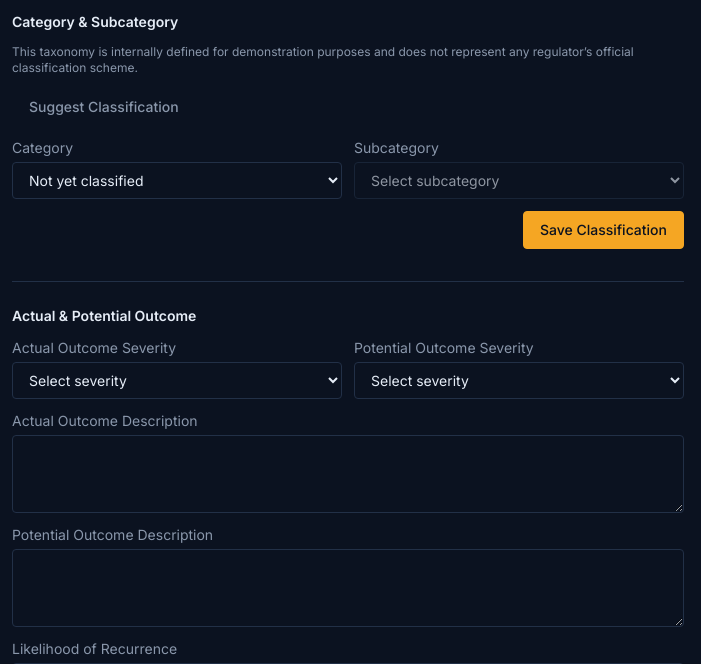
Test case: ClassificationPanel — Suggested Classification (rule-based, not AI) › shows a manual-classification prompt rather than a low-confidence guess when nothing matches
Step 1. Click the button "Suggest Classification" → {"x": 104, "y": 107}, box [12, 88, 196, 126]
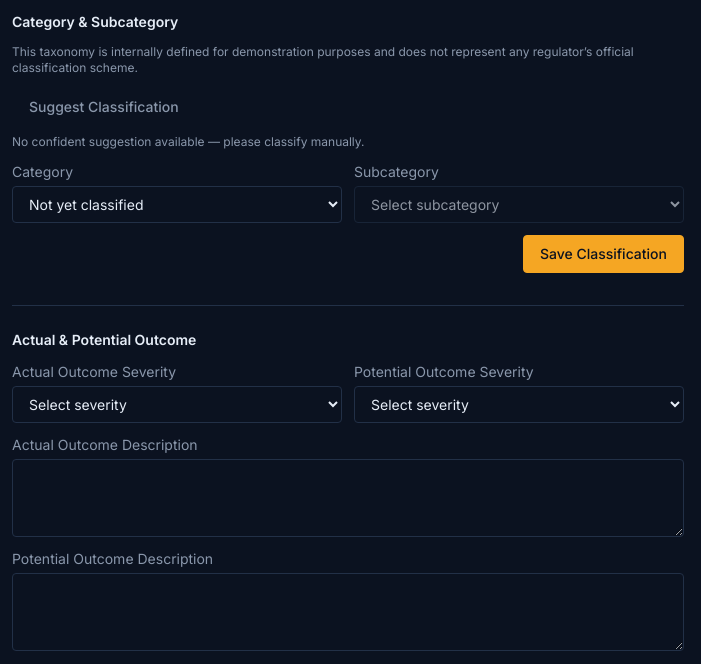
Expected: the text "No confident suggestion available — please classify manually." is shown, [12, 134, 364, 149]
